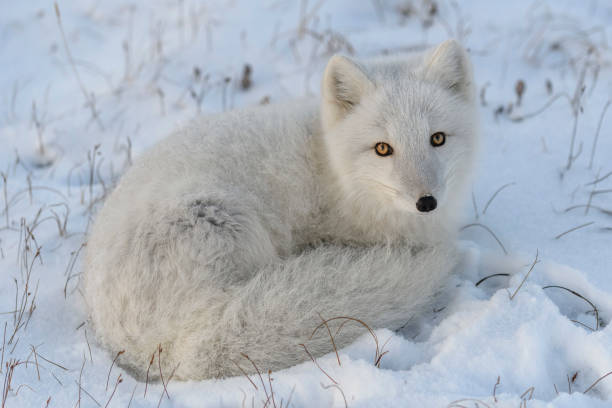arcticfox: (343, 82, 458, 233)
